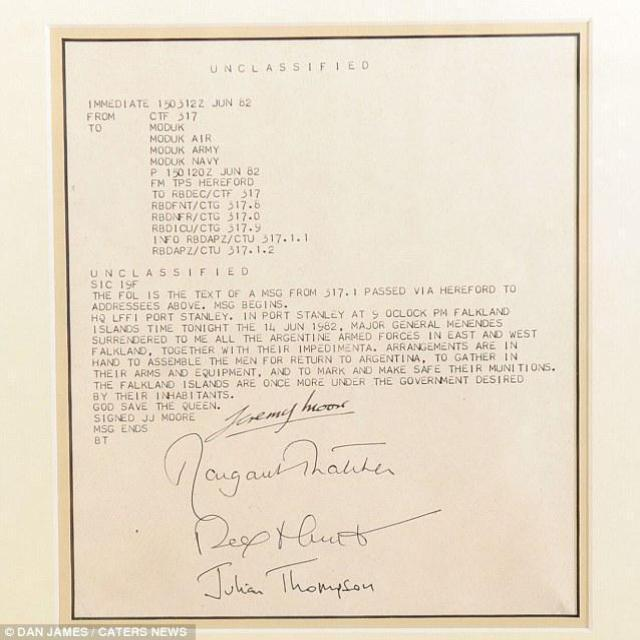signature: (142, 421, 422, 515), (178, 507, 452, 560), (186, 558, 430, 610), (216, 397, 375, 438)
